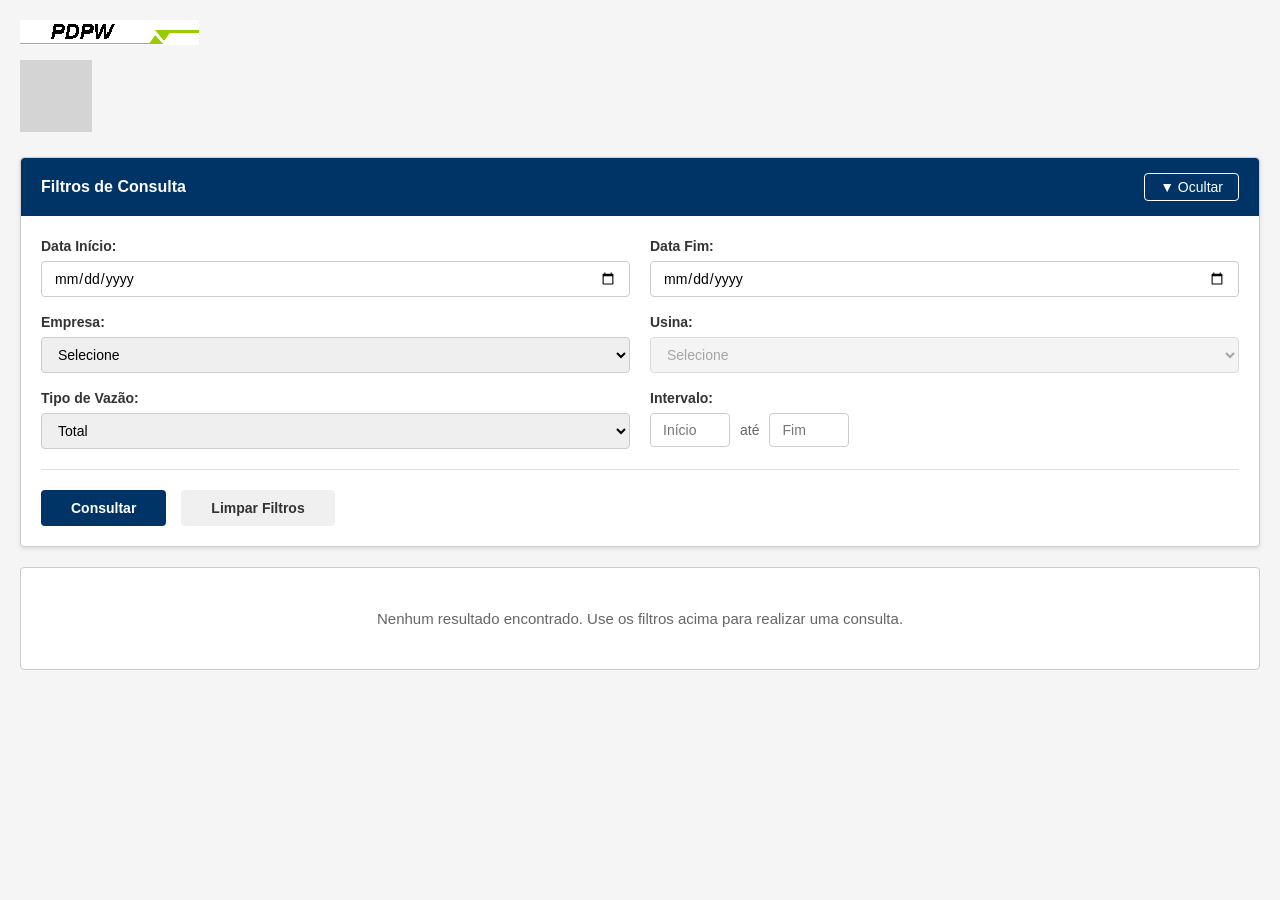
FlowQuery Component › Consulta › deve executar consulta ao clicar em Consultar
Click the button "Consultar".
click(104, 508)  # box [41,490,166,526]
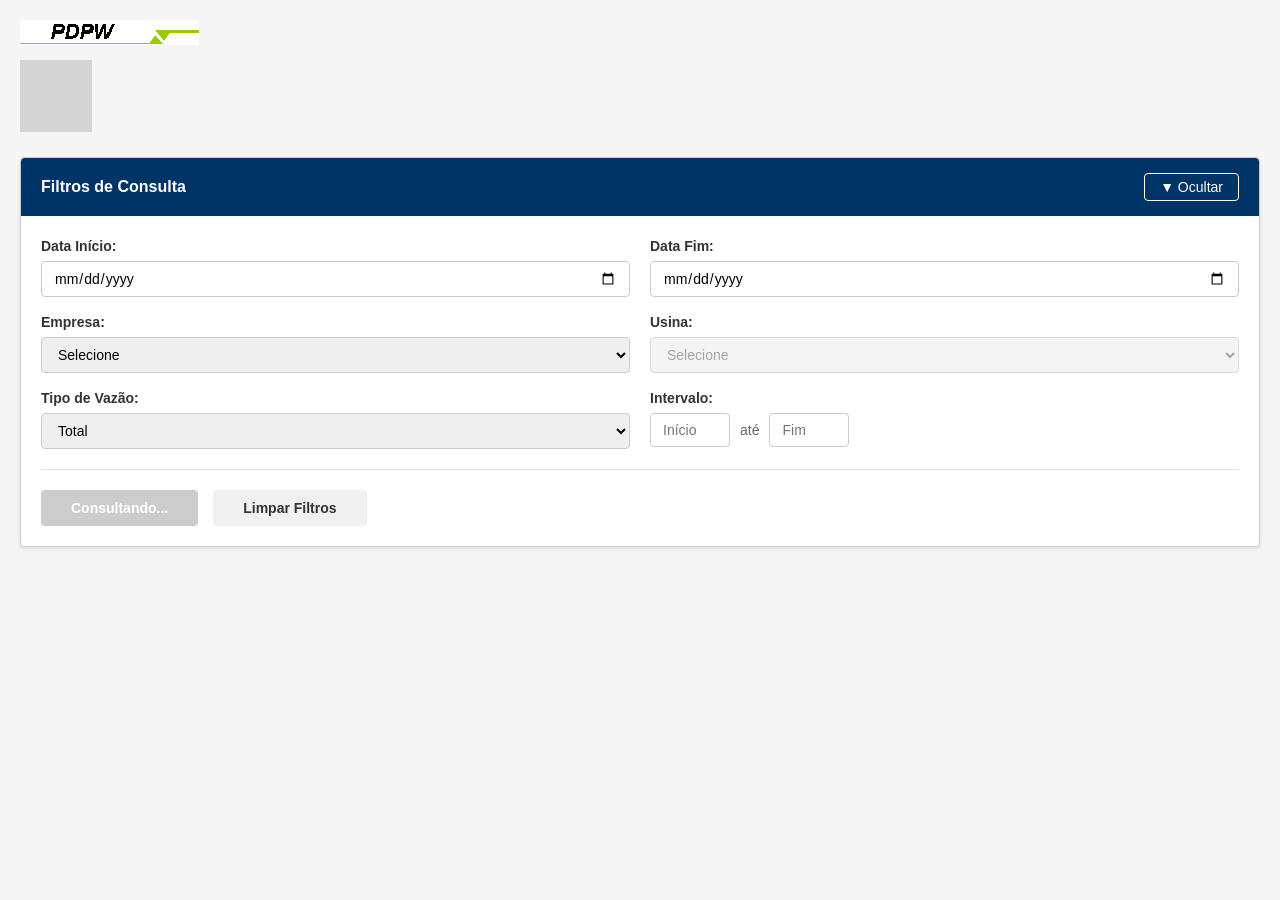
Check: the button "Consultando..." is shown, box [41,490,198,526]
